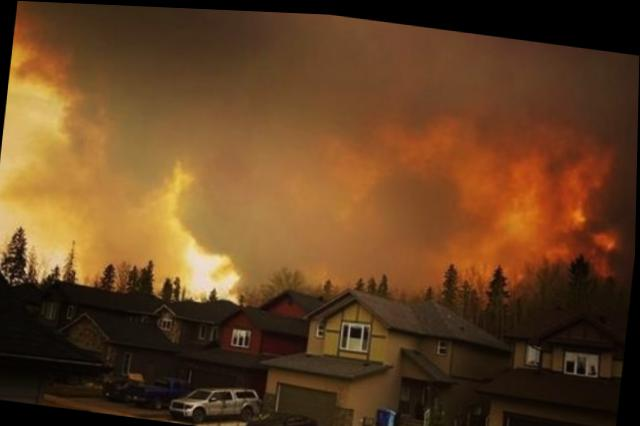fire: (404, 100, 637, 297), (0, 114, 114, 288), (166, 230, 252, 301)
